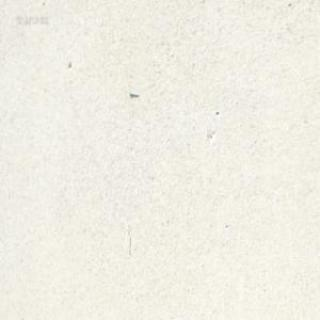Nailtrack_idkeyframe: (128, 90, 138, 96)
